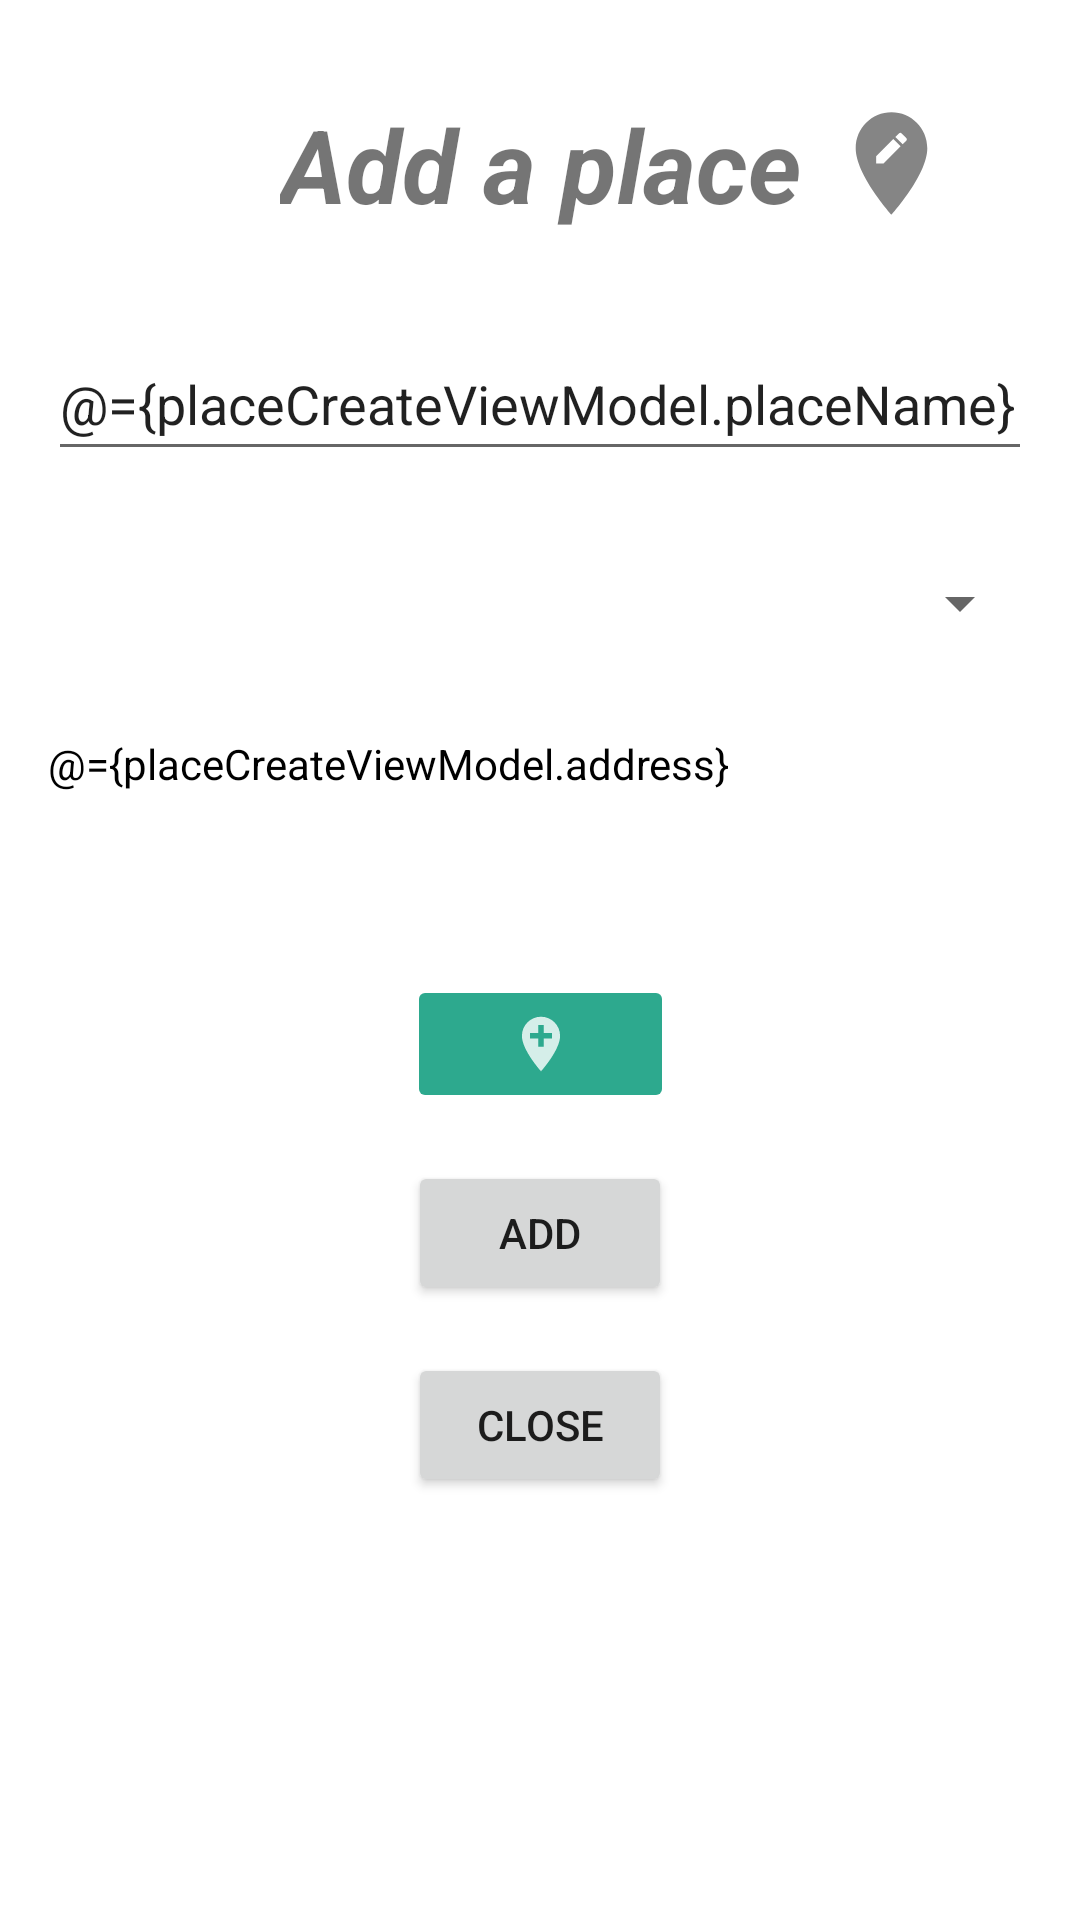

Locate icon controls on the screen. Image size 1080x1920, boxes as (x1, y1, x2, y2).
locate: (419, 993, 662, 1095)
